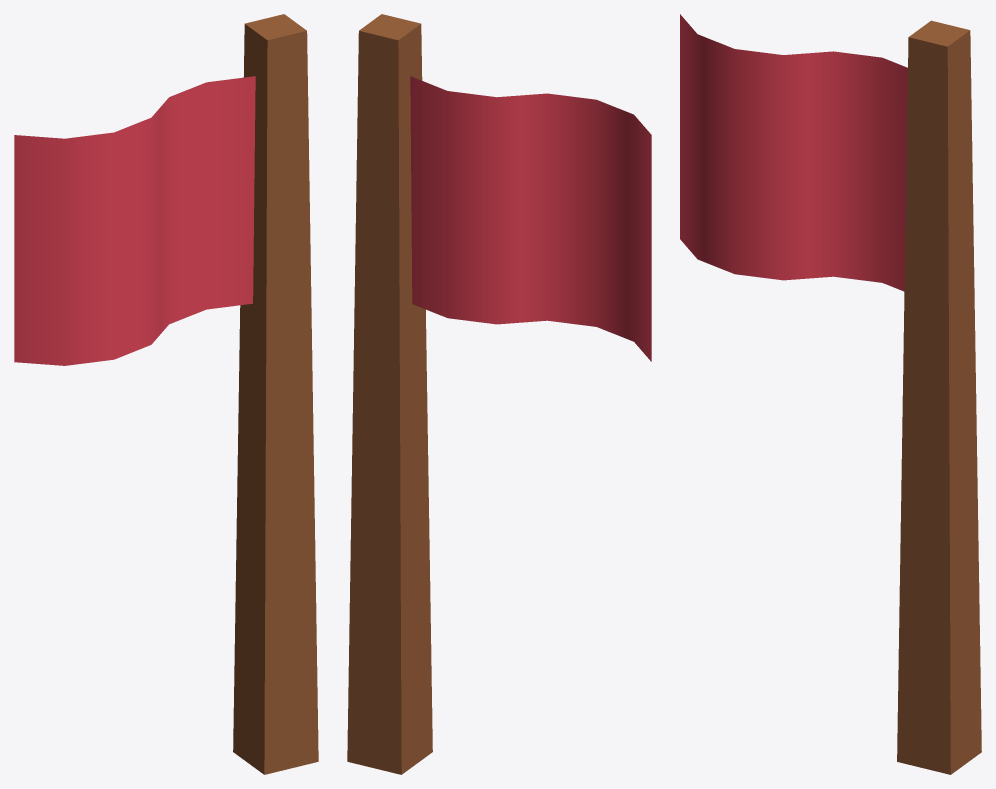
Rendered from flag.dae.
3 views of the same model, side by side, from view 1: azimuth 30°, elevation 25°; view 2: azimuth 150°, elevation 25°; view 3: azimuth 330°, elevation 25° (orthographic).
Parts seen in each view (by area): view 1: flag; view 2: flag; view 3: flag.
Boxes of the visible parts, x1=… form: flag: x1=14, y1=14, x2=318, y2=774; flag: x1=347, y1=14, x2=651, y2=774; flag: x1=680, y1=14, x2=981, y2=774.
Size of the model in its own units: 0.3726 by 0.9 by 0.085.
